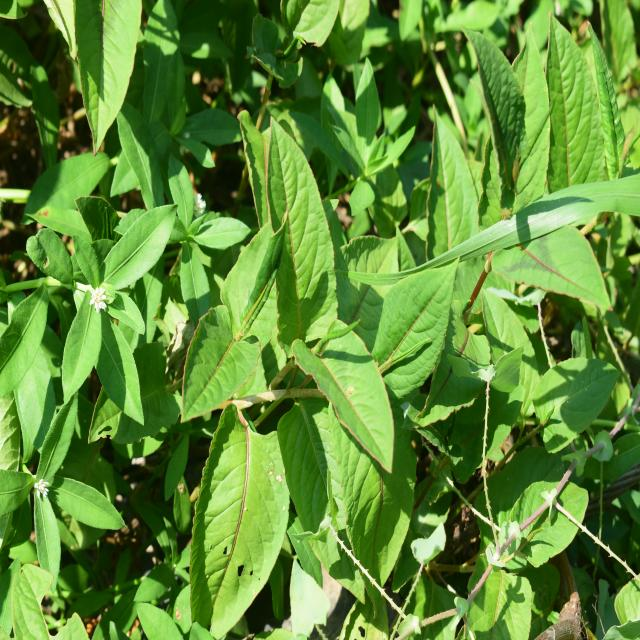Chinese_knotweed: (226, 147, 428, 474)
